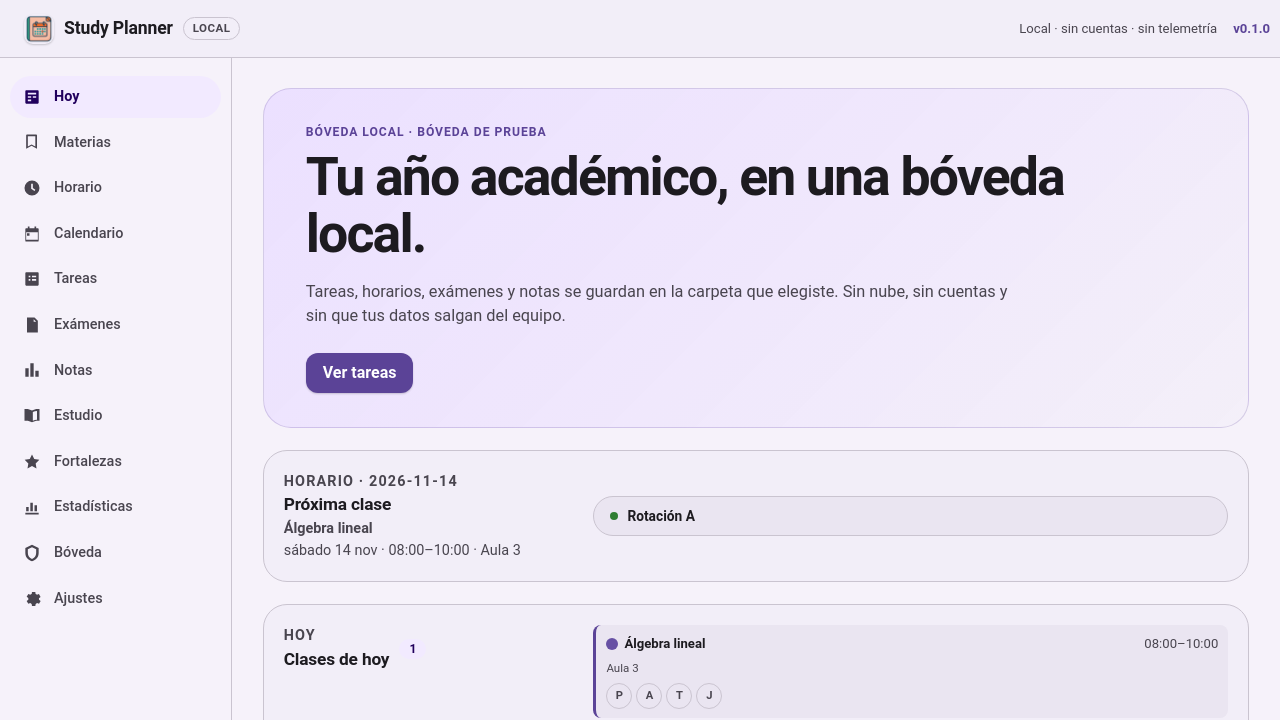
Scenario: App con IPC de Tauri › muestra la próxima clase y registra la asistencia del día
Expected: the heading "Próxima clase" is shown, top-left (284, 494), bottom-right (391, 514)
Expected: the heading "Clases de hoy" is shown, top-left (284, 647), bottom-right (389, 673)
Click the button "P". click: {"x": 619, "y": 696}
box: top-left (606, 683), bottom-right (632, 709)
(page scrolled)
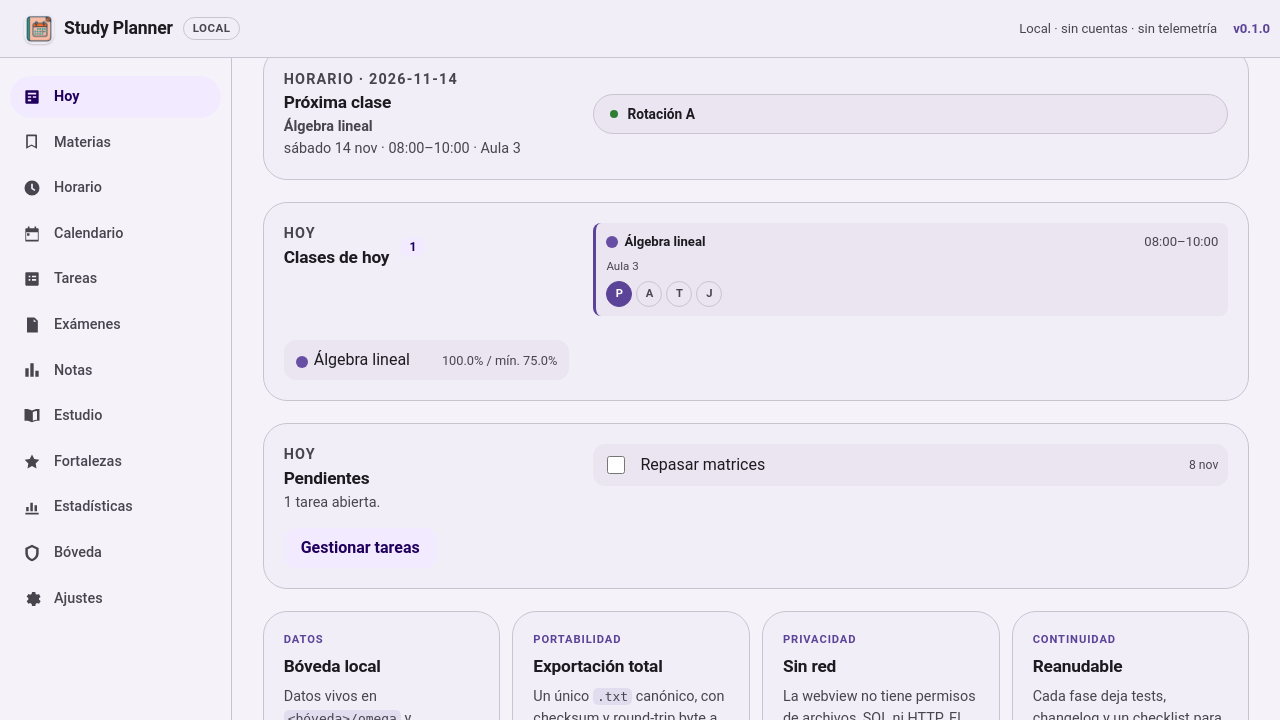
Expected: the text "100.0% / mín. 75.0%" is shown, top-left (442, 351), bottom-right (557, 370)
